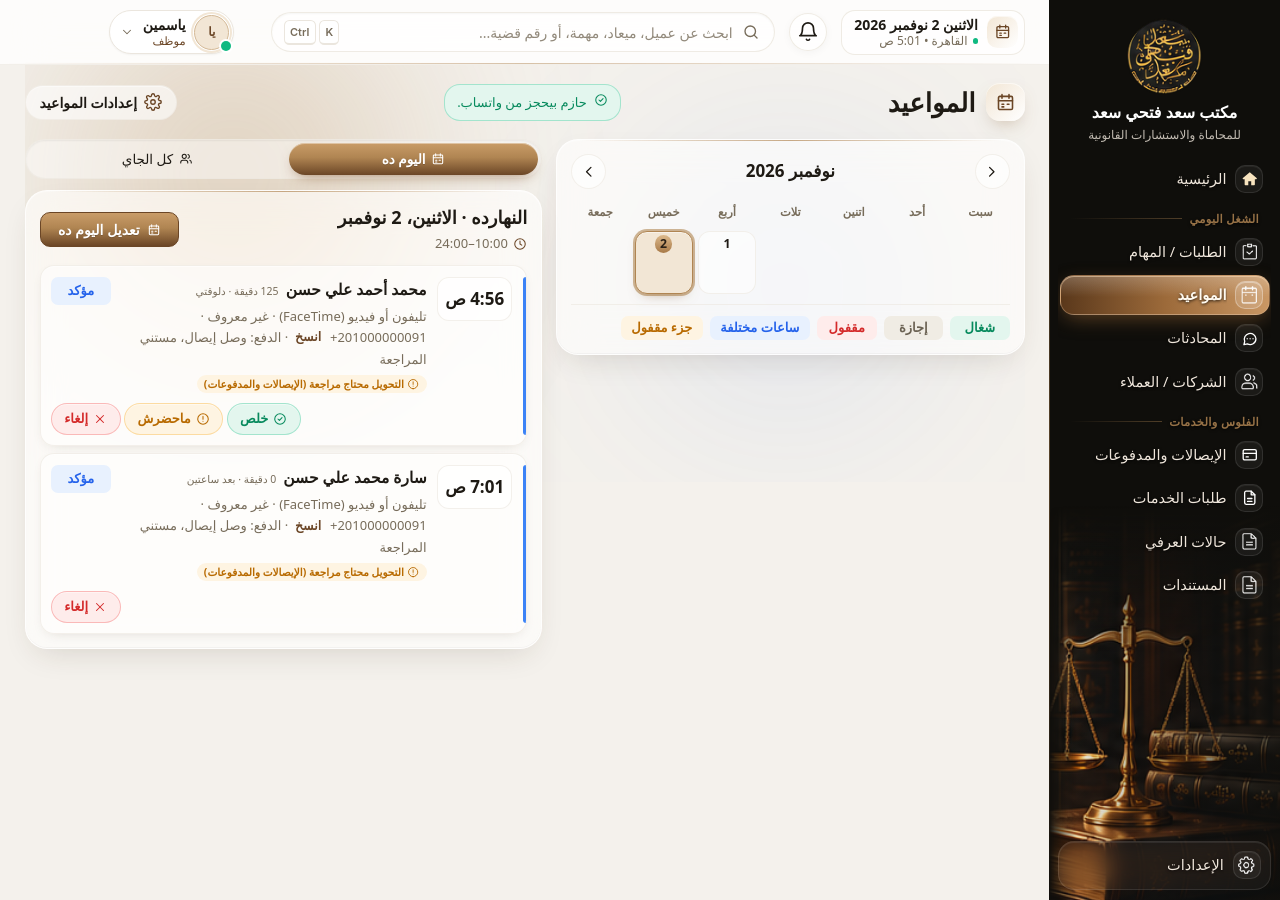
Scenario: TASK 08 booking › «خلص» and «ماحضرش» only once the appointment started, and each asks first; a past day can't be changed
Step 1. Click the button "خلص" → (264, 419), box [227, 403, 301, 435]
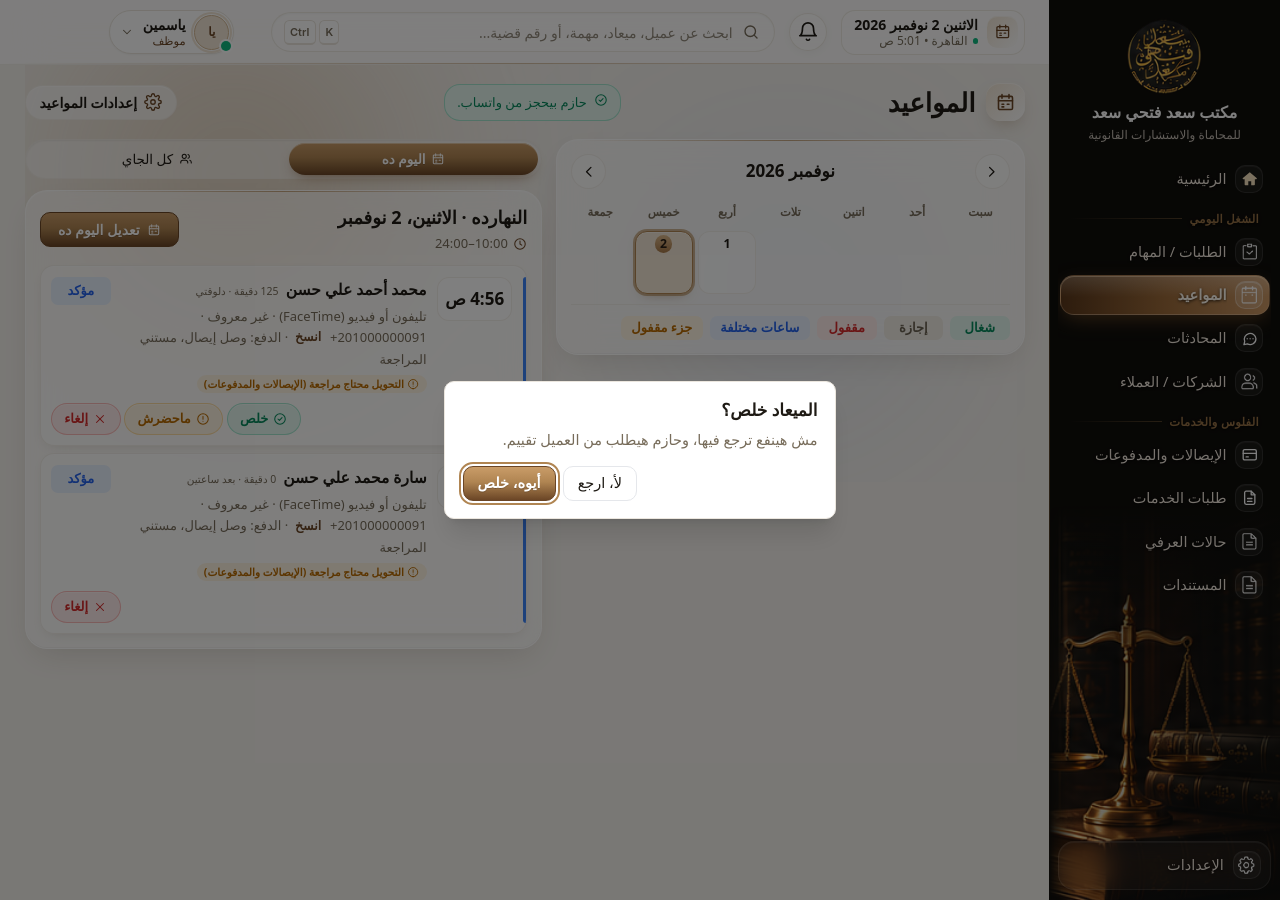
Step 2. Click the button "أيوه، خلص" → (509, 483), box [462, 466, 556, 500]
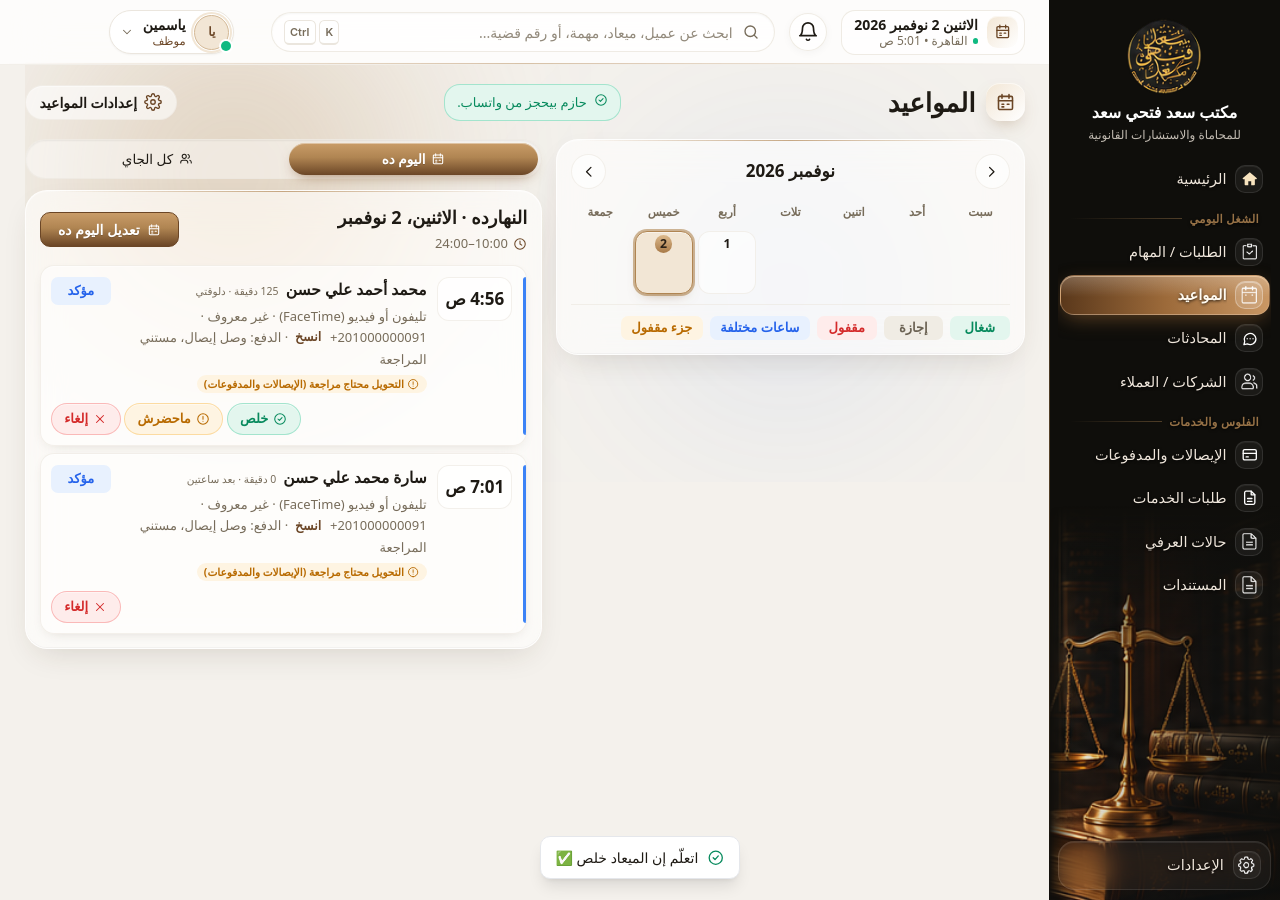
Expected: the button "تعديل اليوم ده" is shown, [40, 212, 179, 247]
Step 3. Click the cell named "2020-01-01" → (727, 262), box [698, 231, 756, 294]
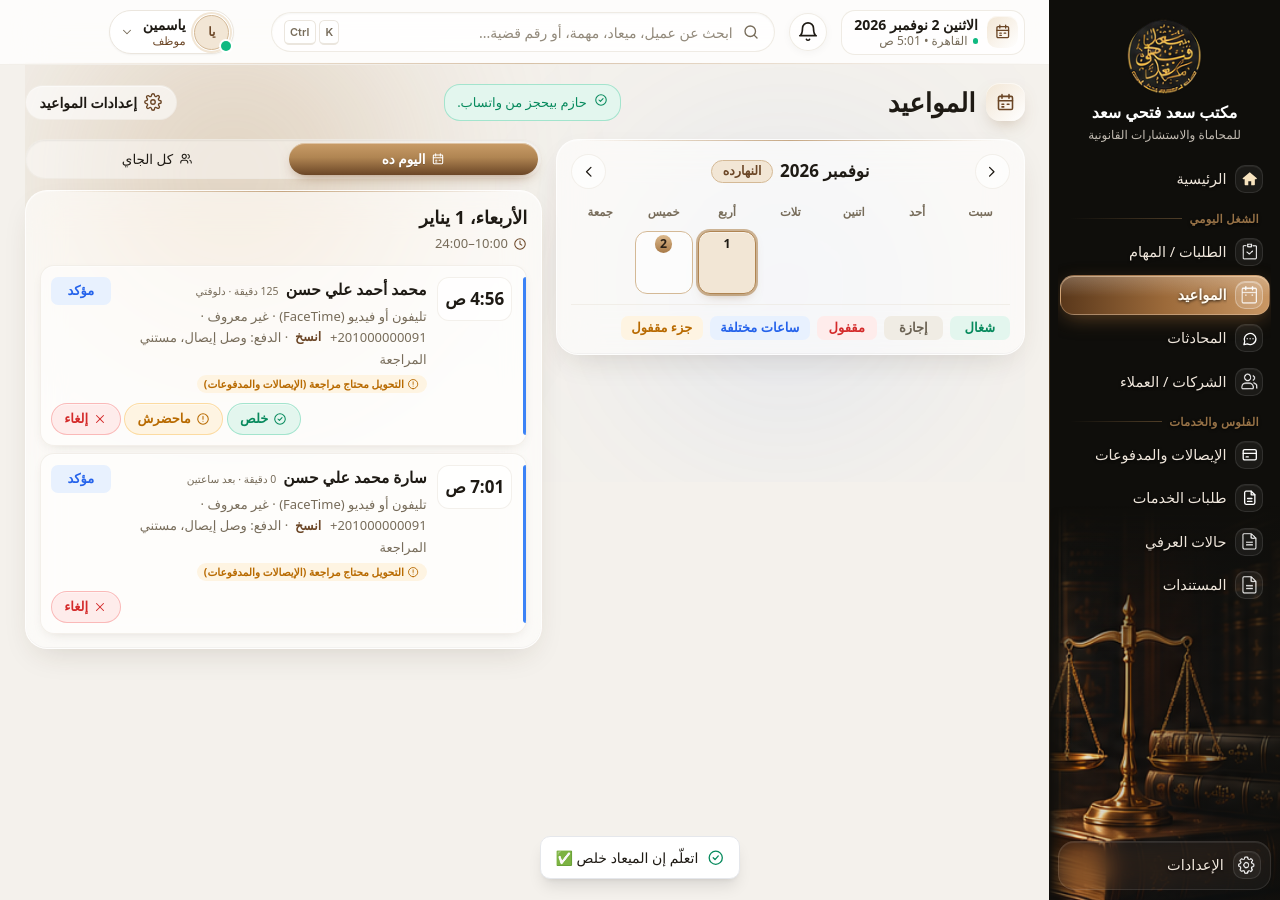
Result: the heading "الأربعاء، 1 يناير" is shown at [419, 205, 527, 229]
Result: the button "تعديل اليوم ده" is gone
